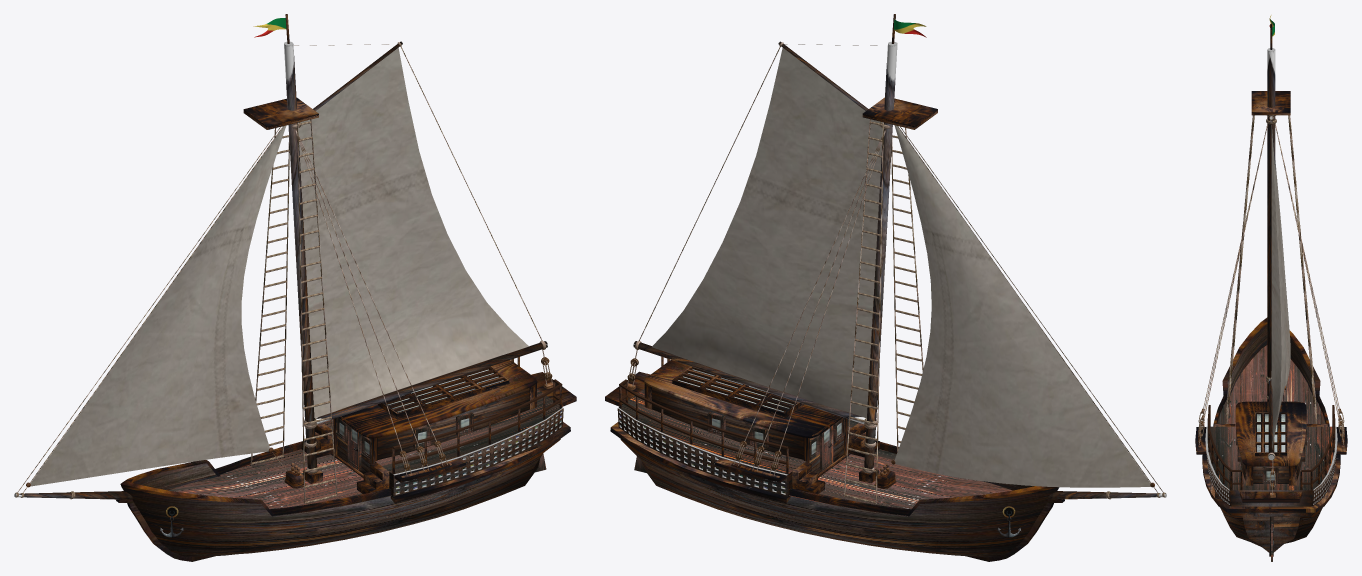
The model's file is ship_02.glb.
3 renders of one model, left to right at view 1: azimuth 30°, elevation 25°; view 2: azimuth 150°, elevation 25°; view 3: azimuth 270°, elevation 25°, orthographic. The views are drawn at different scales.
Parts seen in each view (by area): view 1: Object_3, Object_8, Object_31, Object_25, Object_9, Object_2, Object_10, Object_13, Object_22, Object_12; view 2: Object_3, Object_8, Object_31, Object_25, Object_9, Object_2, Object_10, Object_22, Object_13, Object_12; view 3: Object_31, Object_25, Object_8, Object_3, Object_2, Object_9, Object_13, Object_12, Object_22.
Boxes of the visible parts, <box> form: Object_3: <box>30,48,528,486</box>; Object_8: <box>14,41,563,556</box>; Object_31: <box>26,14,576,561</box>; Object_25: <box>168,389,562,516</box>; Object_9: <box>250,119,337,503</box>; Object_2: <box>337,387,529,495</box>; Object_10: <box>15,42,546,499</box>; Object_13: <box>295,130,546,450</box>; Object_22: <box>336,412,546,472</box>; Object_12: <box>339,369,503,454</box>; Object_3: <box>651,48,1150,487</box>; Object_8: <box>617,41,1166,557</box>; Object_31: <box>605,14,1154,561</box>; Object_25: <box>619,388,1012,516</box>; Object_9: <box>844,119,923,503</box>; Object_2: <box>652,387,843,495</box>; Object_10: <box>635,42,1165,499</box>; Object_22: <box>634,412,845,472</box>; Object_13: <box>634,129,885,451</box>; Object_12: <box>678,369,841,454</box>; Object_31: <box>1195,23,1347,556</box>; Object_25: <box>1207,345,1335,490</box>; Object_8: <box>1205,48,1337,552</box>; Object_3: <box>1271,125,1290,449</box>; Object_2: <box>1230,457,1312,552</box>; Object_9: <box>1226,115,1316,423</box>; Object_13: <box>1203,124,1339,474</box>; Object_12: <box>1257,414,1285,480</box>; Object_22: <box>1237,423,1306,561</box>.
Bounding box in the file's own units: 8.19 × 7.52 × 2.38.
14 materials, 14 textured.
